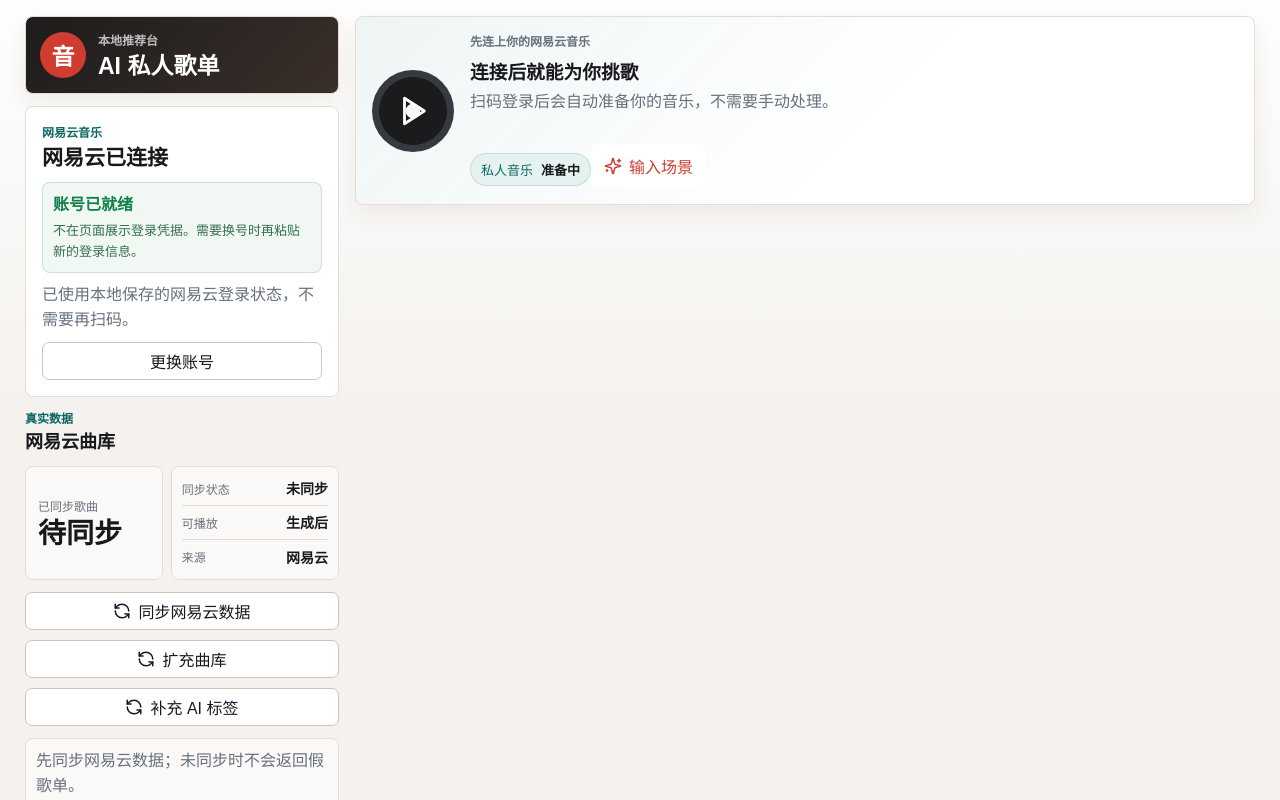
Test case: Workbench › syncs the real NetEase library from admin mode only when requested
Expected: the heading "网易云已连接" is shown, [42,146,168,169]
Click the button "同步网易云数据". click: (182,611)
box: [25,592,339,630]
(page scrolled)
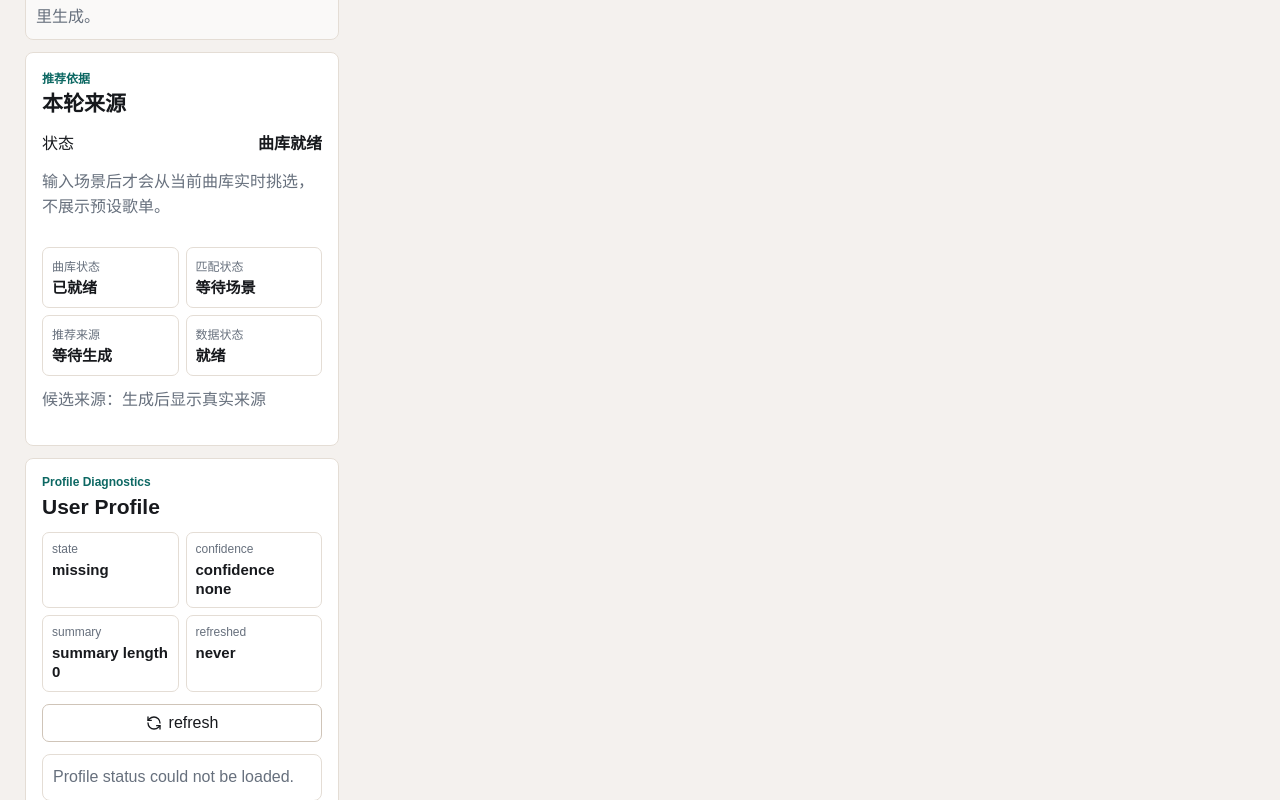
Now the text "曲库就绪" is shown, box [258,130,322,154]
Now the text "候选来源：生成后显示真实来源" is shown, box [42,391,266,408]
